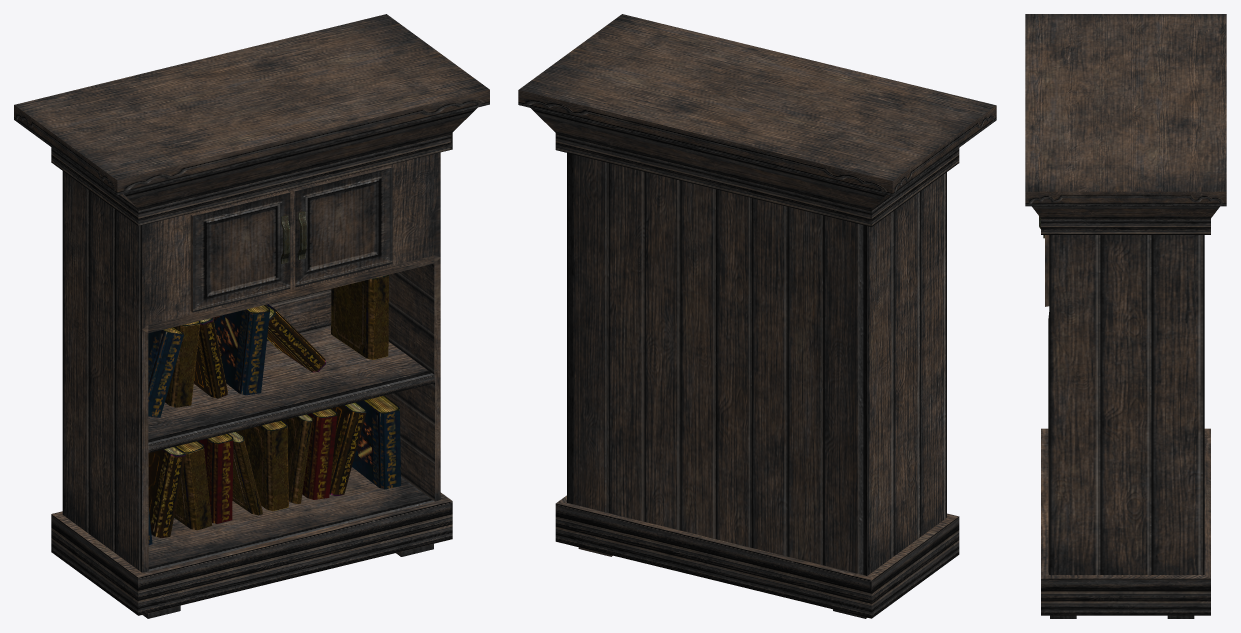
File: GS_VOB_BOOKCASE_BLACK_02_KOZA.glb
The picture shows the model from 3 angles, left to right: view 1: azimuth 30°, elevation 25°; view 2: azimuth 150°, elevation 25°; view 3: azimuth 270°, elevation 25°; orthographic projection. The views are drawn at different scales.
Visible parts, largest first — view 1: GS_VOB_BOOKCASE_BLACK_02_KOZA; view 2: GS_VOB_BOOKCASE_BLACK_02_KOZA; view 3: GS_VOB_BOOKCASE_BLACK_02_KOZA.
Boxes of the visible parts, x1,y1,x2,y2 form: GS_VOB_BOOKCASE_BLACK_02_KOZA: [14, 14, 489, 618]; GS_VOB_BOOKCASE_BLACK_02_KOZA: [518, 14, 996, 618]; GS_VOB_BOOKCASE_BLACK_02_KOZA: [1025, 14, 1226, 618].
Bounding box in the file's own units: 1.41 × 1.66 × 0.6778.
Materials: 4 (4 with a texture image).
